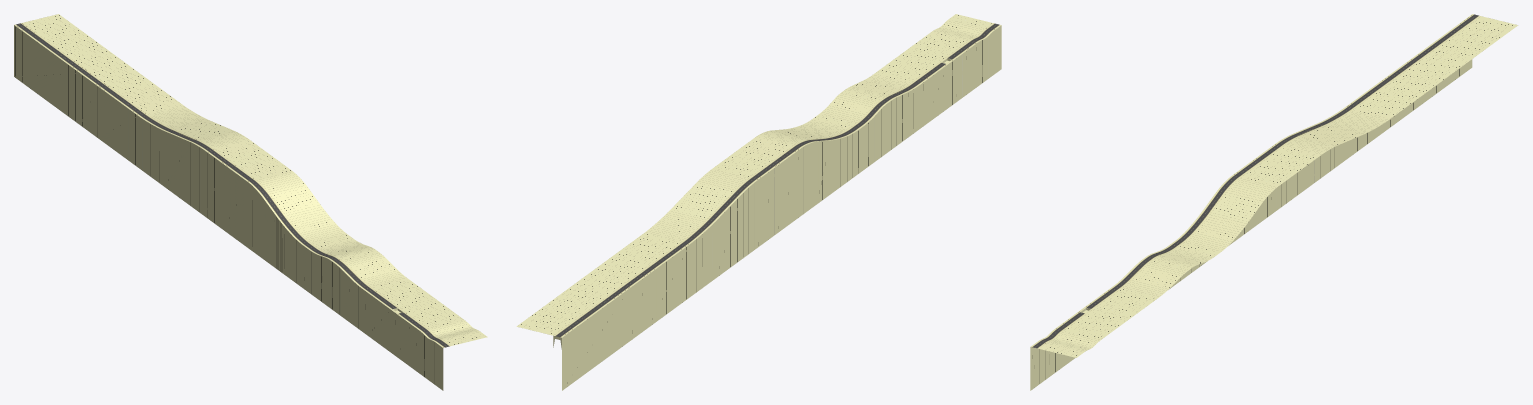
The model's file is track2_1A.fbx.
3 views of the same model, side by side, from view 1: azimuth 30°, elevation 25°; view 2: azimuth 150°, elevation 25°; view 3: azimuth 330°, elevation 25° (orthographic). The views are drawn at different scales.
Visible parts, largest first — view 1: Cube.001, Cube.002; view 2: Cube.001, Cube.002; view 3: Cube.001, Cube.002.
Part boxes in pixels (x1,y1,x2,y2): Cube.001: [14, 14, 487, 390]; Cube.002: [16, 23, 449, 347]; Cube.001: [516, 14, 1001, 390]; Cube.002: [555, 23, 999, 337]; Cube.001: [1030, 14, 1517, 390]; Cube.002: [1032, 14, 1478, 348].
Size of the model in its own units: 3491 by 4925 by 58066.
Materials: 1 (1 with a texture image).
